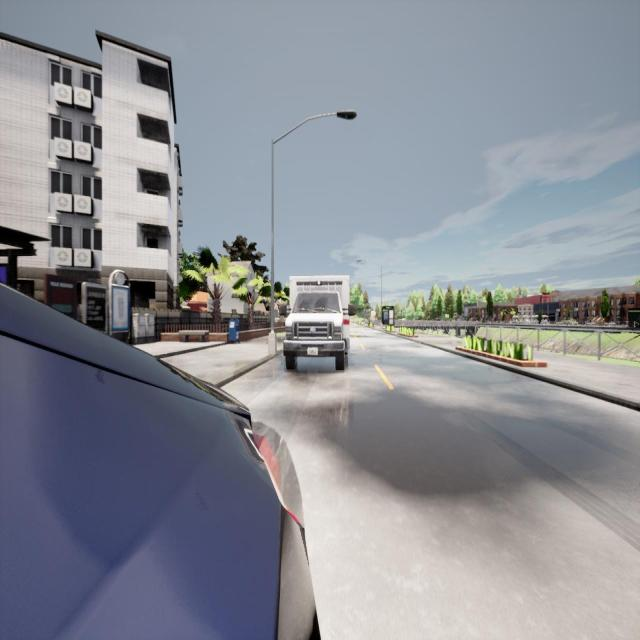Vehicle: (1, 283, 322, 639), (279, 275, 355, 370)
